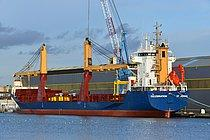Ship: (15, 30, 195, 121)
